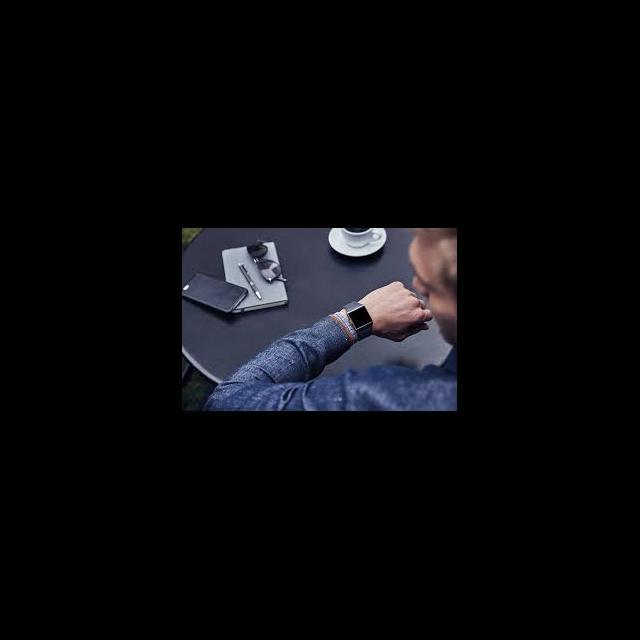smart phone: (187, 270, 255, 327)
watch: (340, 285, 383, 343)
